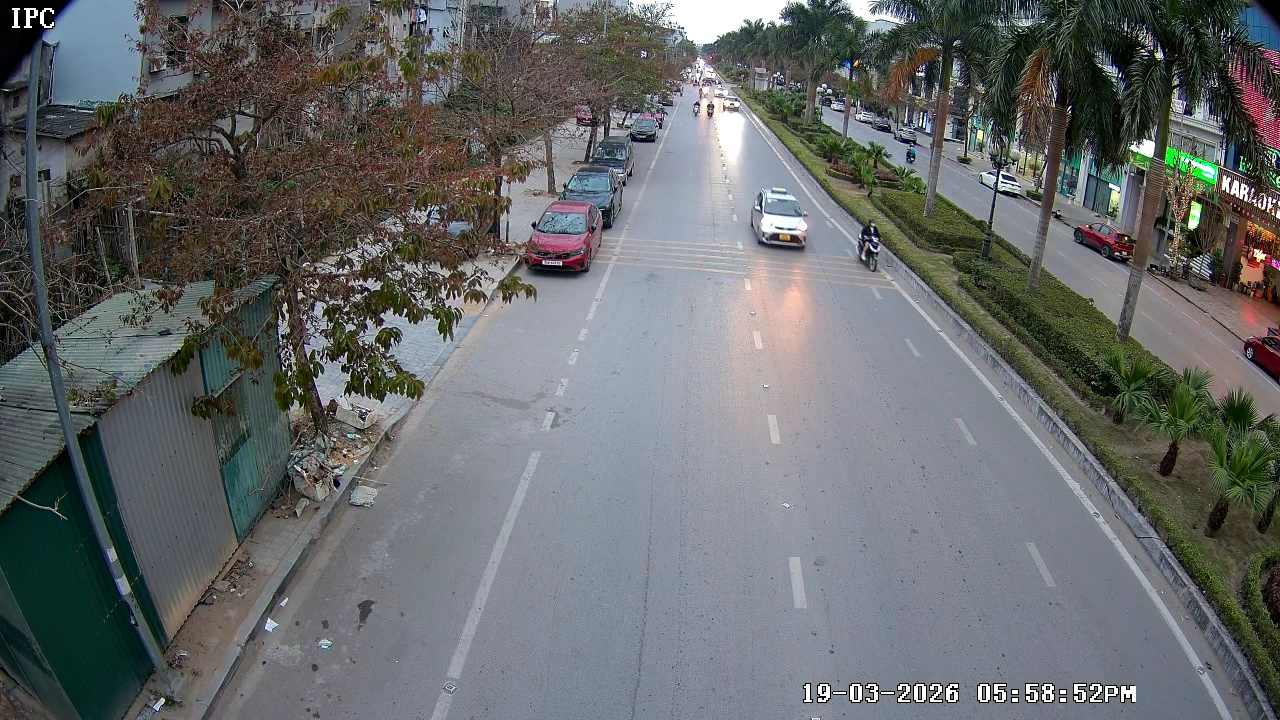car: (523, 200, 600, 276), (750, 186, 809, 251), (630, 116, 660, 144)
motorbike: (850, 214, 889, 272), (705, 100, 716, 119)
